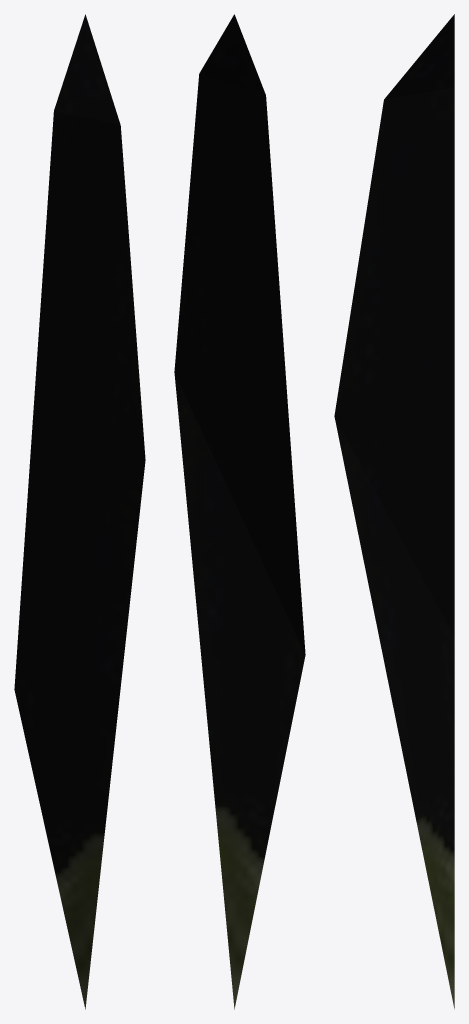
3 views of the same model, side by side, from view 1: azimuth 30°, elevation 25°; view 2: azimuth 210°, elevation 25°; view 3: azimuth 270°, elevation 25° (orthographic).
Bounding box in the file's own units: 0.1287 × 1.72 × 0.1885.
1 material, 1 textured.
